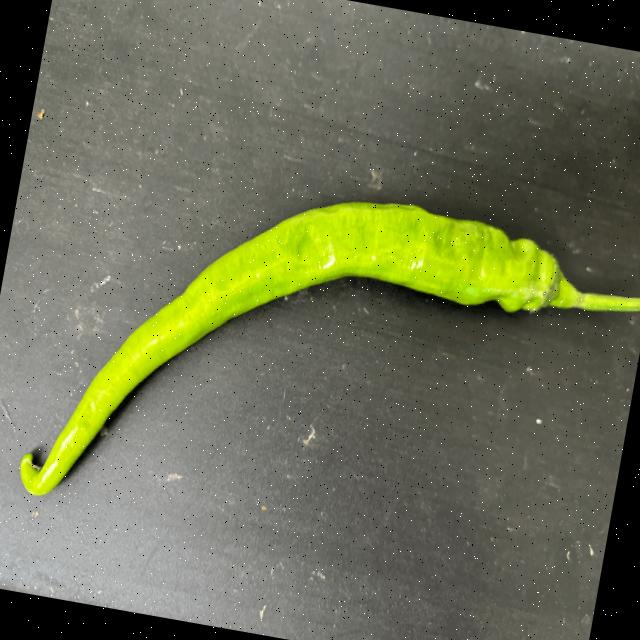chili: (16, 199, 567, 497)
